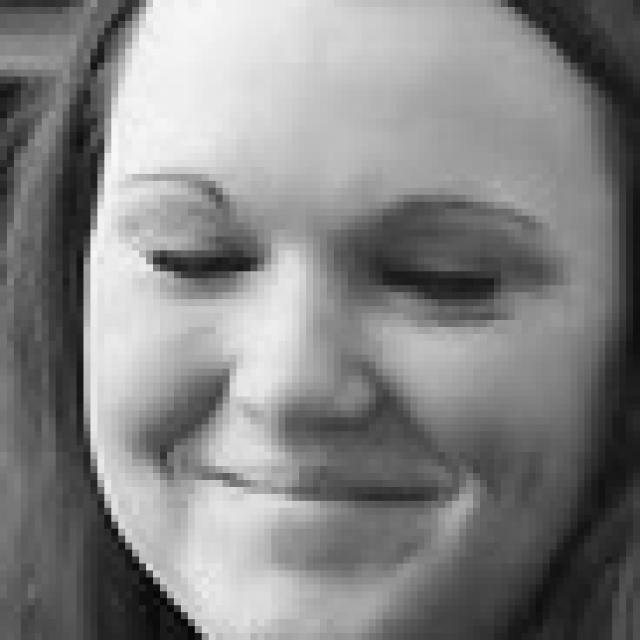real: (84, 0, 624, 640), (111, 200, 531, 326)
